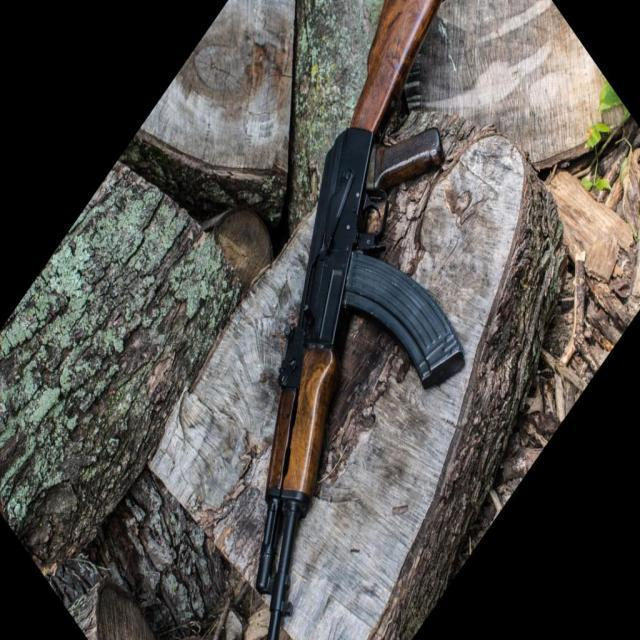weapon: (253, 0, 464, 640)
